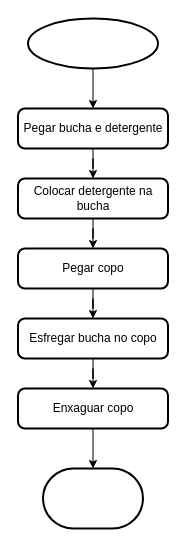
Some shapes in this 186 by 546 pixel diagram are drawn without their labels. Here are the shapes that lost their labels. From the top down, the box of each, then its label:
(26, 17, 158, 69): Inicio
(42, 467, 144, 529): FIM
